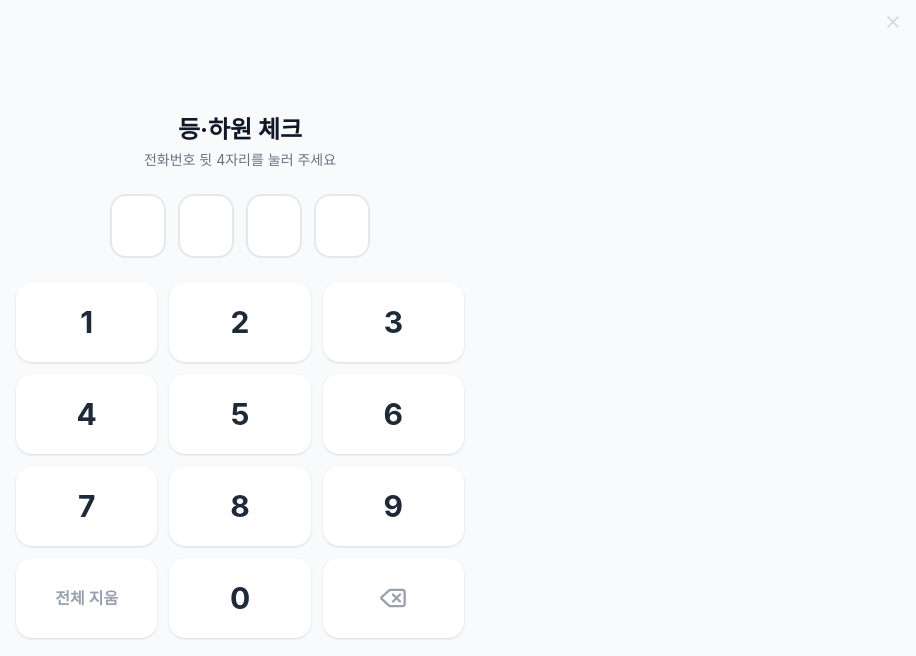
Scenario: KioskPage › 일치 학생이 없으면 안내 후 초기화 경로를 보여준다
Click the button "1": (87, 322) [16,282,157,362]
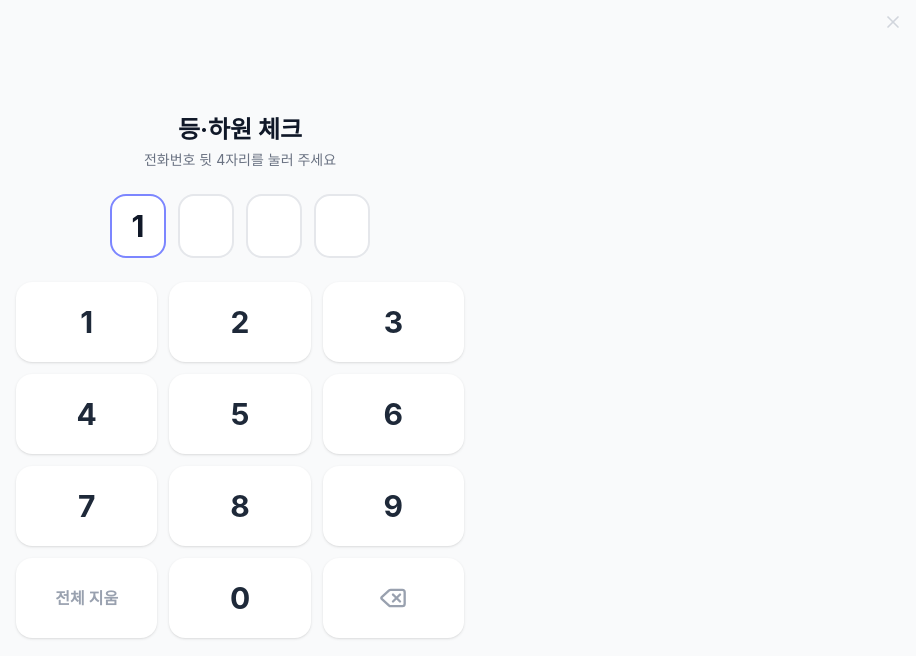
Click the button "2": (240, 322) [169,282,311,362]
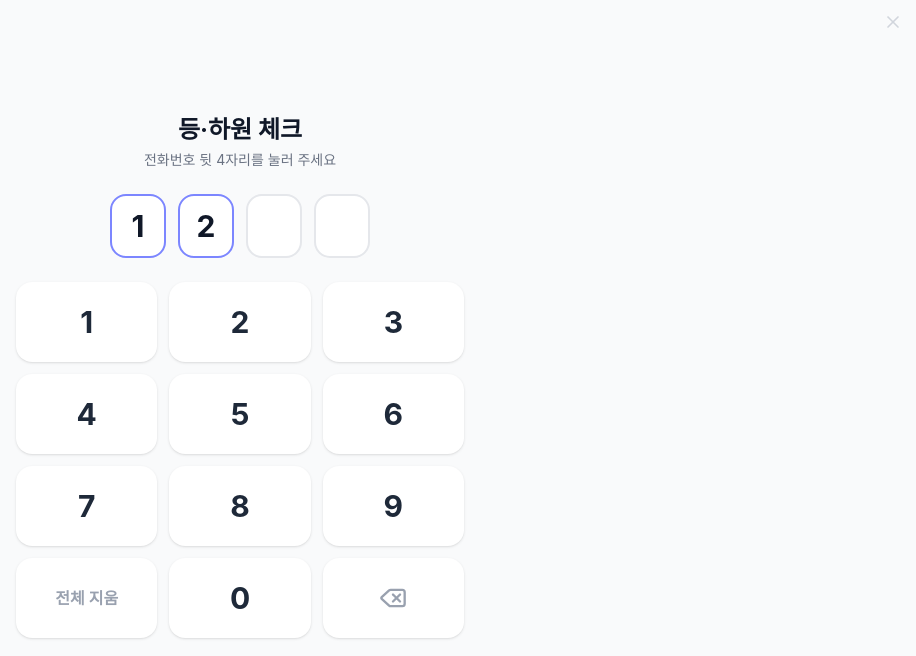
Click the button "3": (393, 322) [323,282,464,362]
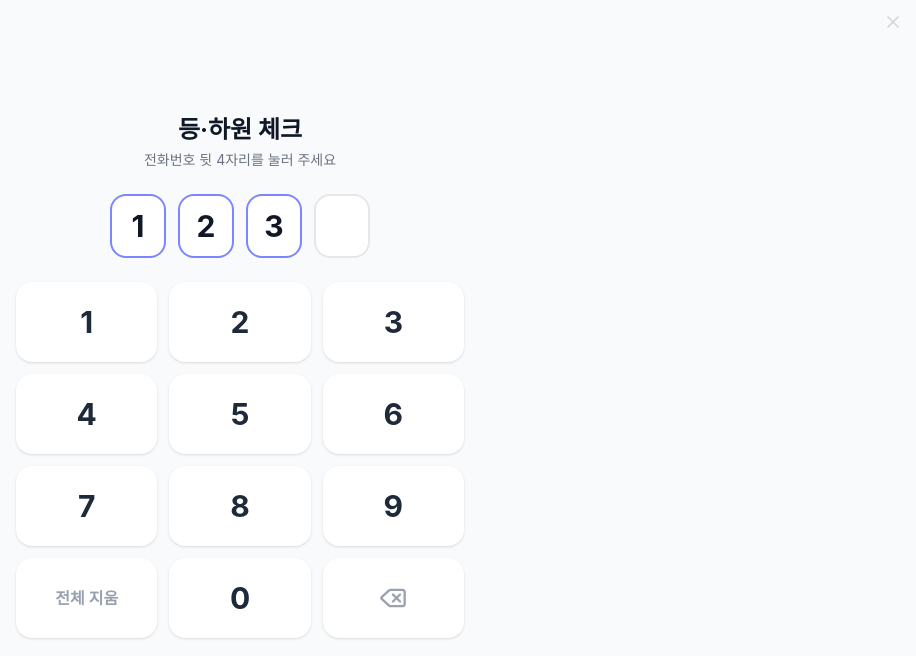
Click the button "4": (87, 414) [16,374,157,454]
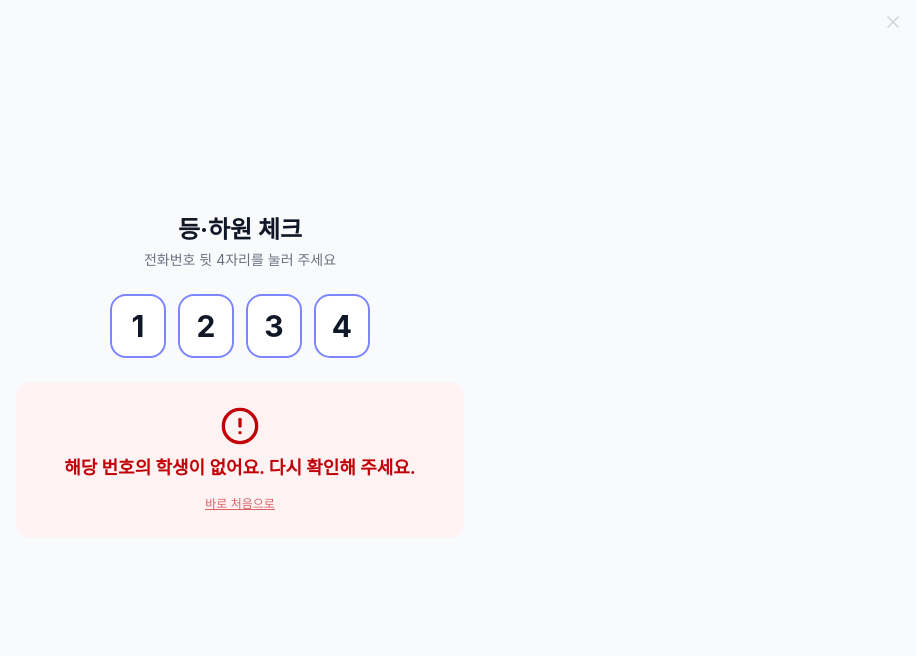
Now the text "해당 번호의 학생이 없어요. 다시 확인해 주세요." is shown, box [40,454,440,482]
